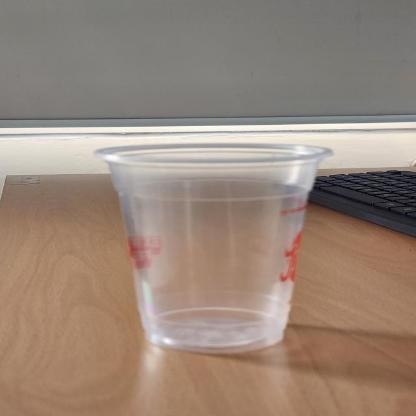Plastic Cup: (92, 142, 340, 356)
